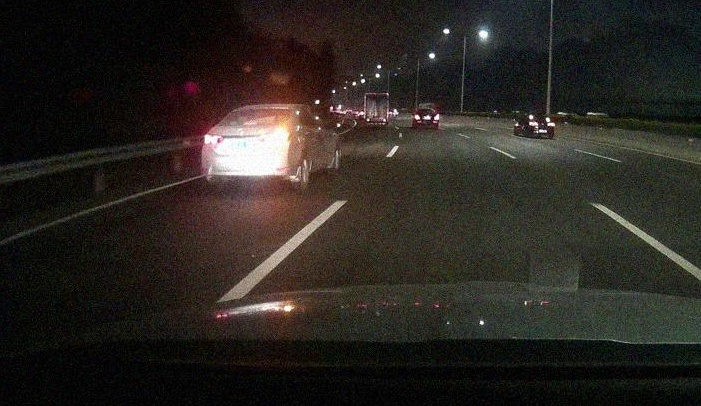L_light: (204, 133, 223, 145)
T_light: (253, 108, 266, 112)
day-no: (262, 130, 291, 141)
night-no: (201, 104, 295, 190)
